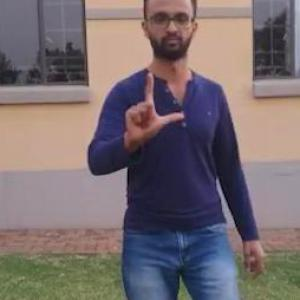land_hand: (117, 66, 194, 156)
